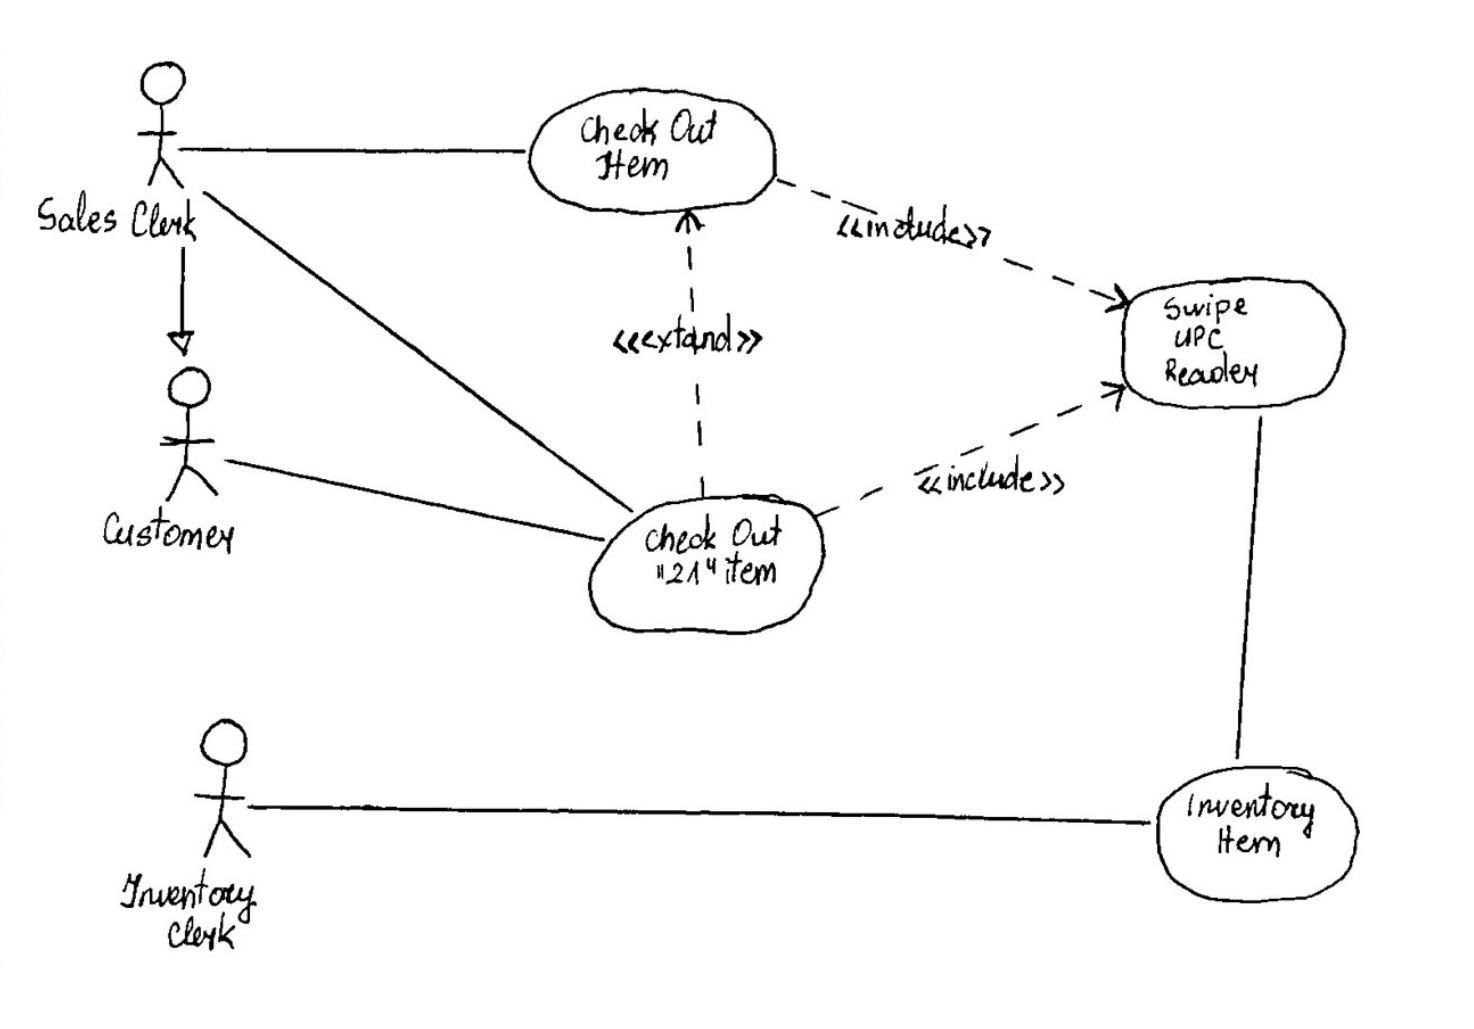actor: (186, 719, 258, 873), (155, 365, 231, 508), (130, 52, 188, 193)
association: (197, 186, 634, 514), (250, 780, 1153, 836), (778, 175, 1132, 317), (822, 377, 1123, 520), (220, 452, 608, 548), (1220, 412, 1276, 763), (178, 124, 525, 171), (673, 211, 713, 495), (159, 246, 212, 361)
text: (637, 512, 791, 597), (114, 866, 263, 952), (1157, 294, 1274, 394), (584, 106, 724, 183), (1182, 788, 1317, 867), (30, 185, 204, 244), (599, 314, 771, 358), (833, 202, 995, 247), (97, 506, 243, 555), (908, 461, 1069, 501)
use_case: (588, 494, 827, 636), (526, 85, 780, 218), (1119, 275, 1349, 411), (1153, 763, 1363, 904)
